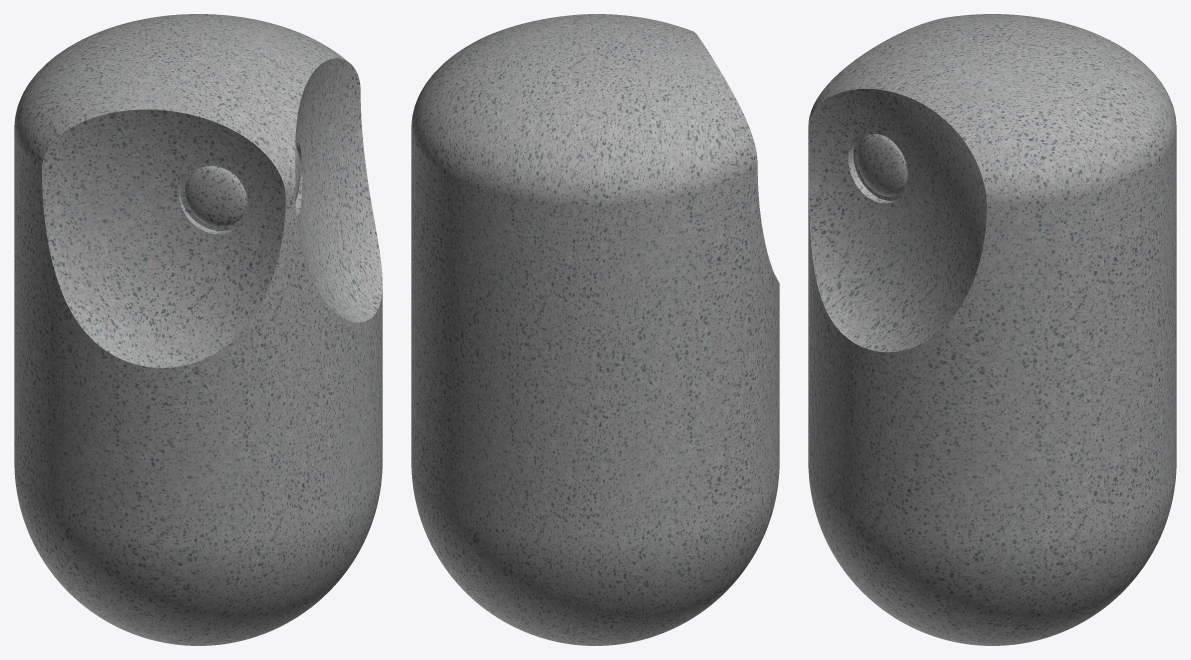
3 views of the same model, side by side, from view 1: azimuth 30°, elevation 25°; view 2: azimuth 150°, elevation 25°; view 3: azimuth 270°, elevation 25° (orthographic).
Visible parts, largest first — view 1: Object_1; view 2: Object_1; view 3: Object_1.
Boxes of the visible parts, left/top/right/bottom form: Object_1: left=14, top=14, right=382, bottom=645; Object_1: left=411, top=14, right=779, bottom=645; Object_1: left=808, top=14, right=1176, bottom=645.
Size of the model in its own units: 1 by 1 by 1.71.
1 material, 1 textured.
